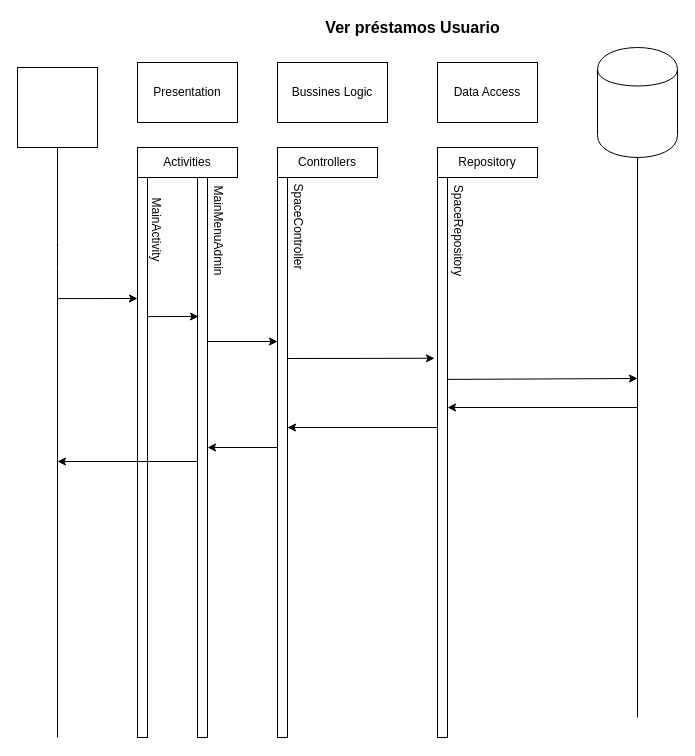
Image size: 695x756. Some labels were removed from this diagram. The shapes that lost their labels are listed below. From the top down, each one's centre as x and y in pixels, then its label:
At point (57, 107): "Admin".
At point (637, 102): "Database".
